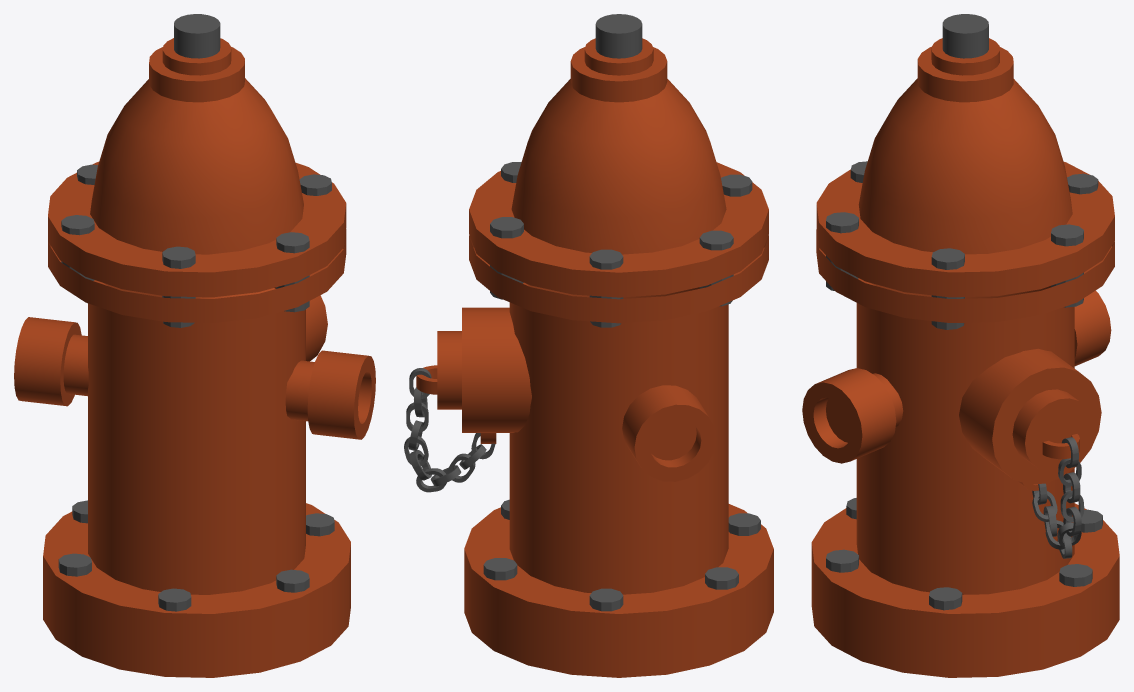
Rendered from FireHydrant.fbx.
The picture shows the model from 3 angles, left to right: view 1: azimuth 30°, elevation 25°; view 2: azimuth 150°, elevation 25°; view 3: azimuth 270°, elevation 25°; orthographic projection.
Visible parts, largest first — view 1: pCylinder50; view 2: pCylinder50; view 3: pCylinder50.
Boxes of the visible parts, x1=… form: pCylinder50: x1=14, y1=14, x2=375, y2=677; pCylinder50: x1=404, y1=14, x2=773, y2=677; pCylinder50: x1=802, y1=14, x2=1119, y2=677.
Bounding box in the file's own units: 1.2 × 2.25 × 1.1.
